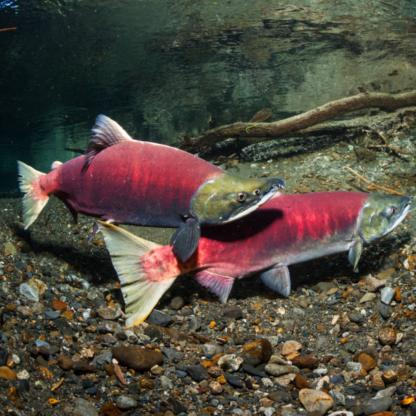sockeye: (102, 192, 412, 314), (11, 102, 286, 227)
